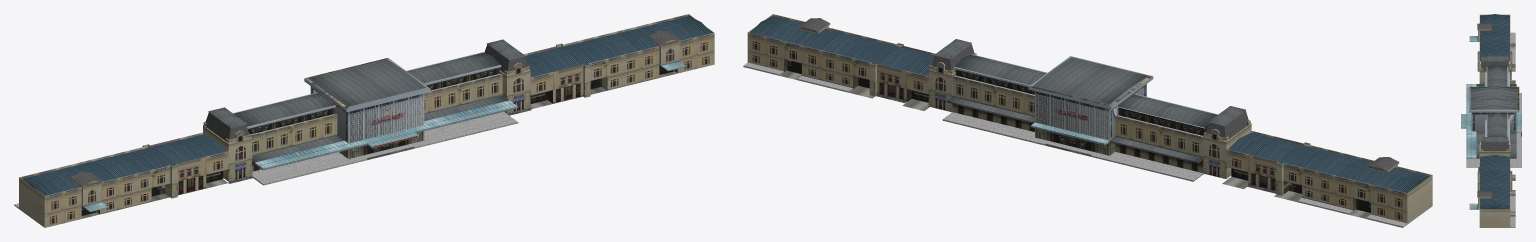
The picture shows the model from 3 angles, left to right: view 1: azimuth 30°, elevation 25°; view 2: azimuth 150°, elevation 25°; view 3: azimuth 270°, elevation 25°; orthographic projection. The views are drawn at different scales.
Visible parts, largest first — view 1: 5dd78d8b97c70c18602d3d54; view 2: 5dd78d8b97c70c18602d3d54; view 3: 5dd78d8b97c70c18602d3d54.
Part boxes in pixels (bbox=[...]): 5dd78d8b97c70c18602d3d54: bbox=[14, 14, 714, 227]; 5dd78d8b97c70c18602d3d54: bbox=[743, 14, 1432, 227]; 5dd78d8b97c70c18602d3d54: bbox=[1461, 14, 1521, 227].
Bounding box in the file's own units: 255 × 20.32 × 33.8.
Materials: 1 (1 with a texture image).
